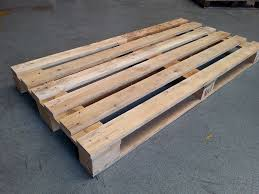pallet: (8, 16, 259, 177)
